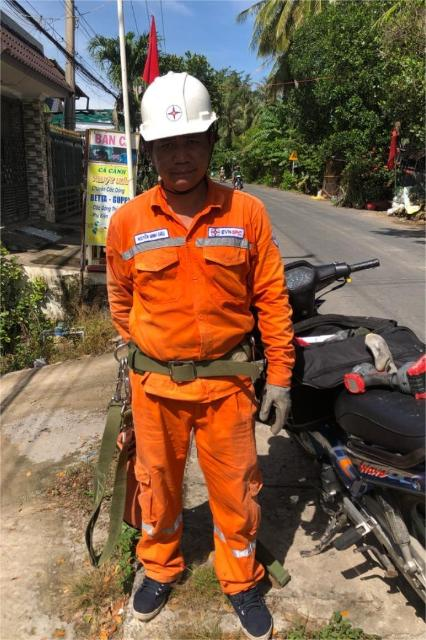gloves: (260, 372, 297, 438)
harness: (113, 330, 261, 387)
helmet: (124, 65, 233, 162)
shoes: (218, 574, 283, 639), (127, 572, 178, 629)
